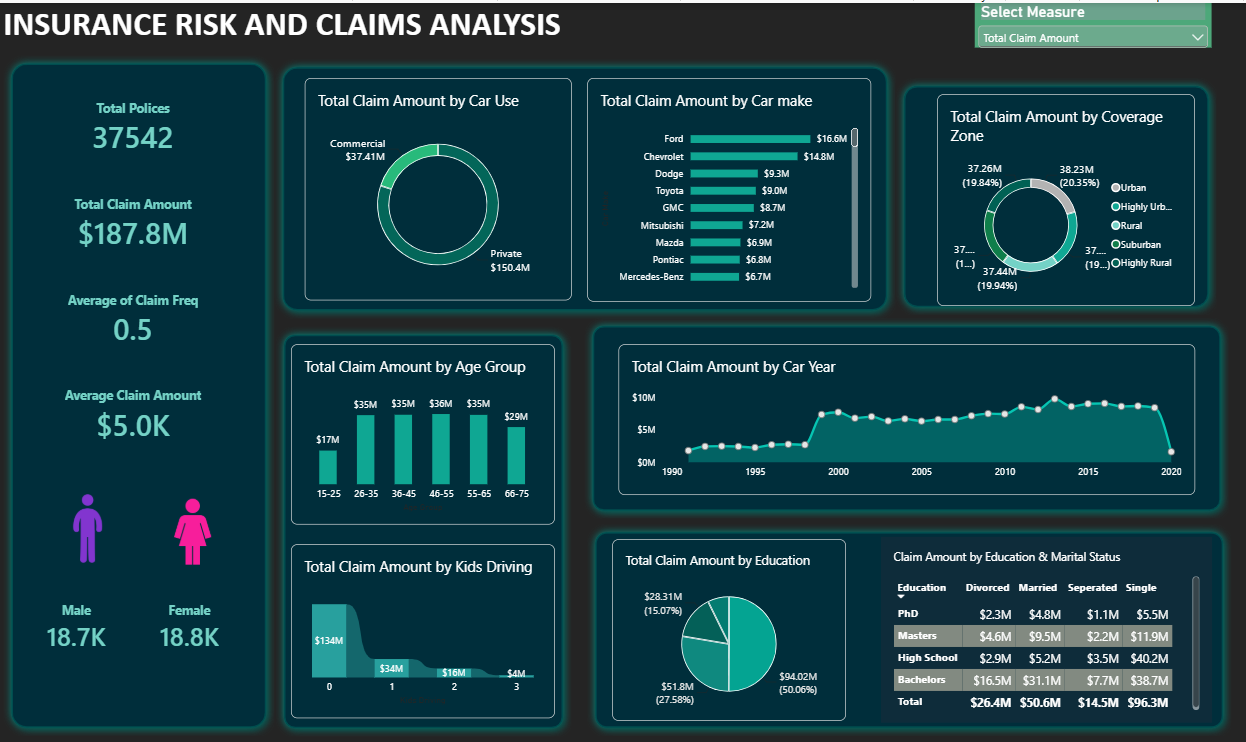

Layout of this report page (visuals, bound fields, positions):
{"tool":"powerbi","page":{"name":"Page 1","canvas":[1600,950],"ordinal":0},"visuals":[{"type":"textbox","box":[10.3,0,1590.1,84],"z":0},{"type":"shape","box":[10.3,66.9,344.8,866.2],"z":1000},{"type":"cardVisual","fields":{"Data":["insurance_data_car.Total Polices","insurance_data_car.Total Claim Amount","Avg(insurance_data_car.Claim Freq)","insurance_data_car.Average Claim Amount"]},"box":[34.3,99.5,279.6,488.9],"z":2000},{"type":"cardVisual","fields":{"Data":["insurance_data_car.Male Count","insurance_data_car.Female Count"]},"box":[30.9,739.3,288.2,114.9],"z":3000},{"type":"image","box":[209.3,610.6,84,123.5],"z":4000},{"type":"image","box":[73.2,627.2,87.5,87.5],"z":5000},{"type":"slicer","fields":{"Values":["Select Measure.Select Measure"]},"box":[1247,0,301.9,56.6],"z":6000},{"type":"shape","box":[355.1,72,790,330],"z":7000},{"type":"donutChart","fields":{"Category":["insurance_data_car.Car Use"],"Y":["insurance_data_car.Total Claim Amount"]},"box":[392.8,96.1,339.6,283],"z":8000},{"type":"clusteredBarChart","title":"Total Claim Amount by Car make","fields":{"Category":["insurance_data_car.Car Make"],"Y":["insurance_data_car.Total Claim Amount"]},"box":[753,96.1,361.9,284.7],"z":9000},{"type":"shape","box":[1145.8,96.1,408.2,301.9],"z":10000},{"type":"donutChart","title":"Total  Claim Amount by Coverage Zone","fields":{"Category":["insurance_data_car.Coverage Zone"],"Y":["Sum(insurance_data_car.Claim Amount)"]},"box":[1199,116.6,327.6,269.3],"z":11000},{"type":"shape","box":[356.8,411.7,375.6,521.4],"z":12000},{"type":"clusteredColumnChart","fields":{"Category":["insurance_data_car.Age Group"],"Y":["insurance_data_car.Total Claim Amount"]},"box":[375.6,434,336.2,229.8],"z":13000},{"type":"ribbonChart","fields":{"Category":["insurance_data_car.Kids Driving"],"Y":["insurance_data_car.Total Claim Amount"]},"box":[375.6,689.5,336.2,221.3],"z":14000},{"type":"shape","box":[749.6,401.4,819.9,255.6],"z":15000},{"type":"areaChart","fields":{"Category":["insurance_data_car.Car Year"],"Y":["insurance_data_car.Total Claim Amount"]},"box":[792.5,434,734.1,192.1],"z":16000},{"type":"shape","box":[753,663.8,819.9,269.3],"z":17000},{"type":"pieChart","fields":{"Category":["insurance_data_car.Education"],"Y":["insurance_data_car.Total Claim Amount"]},"box":[784.8,682.9,297.7,230.8],"z":18000},{"type":"pivotTable","title":"Claim Amount by Education & Marital Status","fields":{"Columns":["insurance_data_car.Marital Status"],"Rows":["insurance_data_car.Education"],"Values":["insurance_data_car.Total Claim Amount"]},"box":[1126.9,679.2,422,236.7],"z":19000}]}

Visuals, with their boxes in screenshot pixels (x1, y1, x2, y2), scaled from the page's 1600x950 canvas onto the 1246x742 screenshot:
textbox: bbox(8, 0, 1245, 66)
shape: bbox(8, 52, 277, 729)
cardVisual - insurance_data_car.Total Polices x insurance_data_car.Total Claim Amount: bbox(27, 78, 244, 460)
cardVisual - insurance_data_car.Male Count x insurance_data_car.Female Count: bbox(24, 577, 248, 667)
image: bbox(163, 477, 228, 573)
image: bbox(57, 490, 125, 558)
slicer - Select Measure.Select Measure: bbox(971, 0, 1206, 44)
shape: bbox(277, 56, 892, 314)
donutChart - insurance_data_car.Car Use x insurance_data_car.Total Claim Amount: bbox(306, 75, 570, 296)
"Total Claim Amount by Car make" clusteredBarChart: bbox(586, 75, 868, 297)
shape: bbox(892, 75, 1210, 311)
"Total  Claim Amount by Coverage Zone" donutChart: bbox(934, 91, 1189, 301)
shape: bbox(278, 322, 570, 729)
clusteredColumnChart - insurance_data_car.Age Group x insurance_data_car.Total Claim Amount: bbox(292, 339, 554, 518)
ribbonChart - insurance_data_car.Kids Driving x insurance_data_car.Total Claim Amount: bbox(292, 539, 554, 711)
shape: bbox(584, 314, 1222, 513)
areaChart - insurance_data_car.Car Year x insurance_data_car.Total Claim Amount: bbox(617, 339, 1189, 489)
shape: bbox(586, 518, 1225, 729)
pieChart - insurance_data_car.Education x insurance_data_car.Total Claim Amount: bbox(611, 533, 843, 714)
"Claim Amount by Education & Marital Status" pivotTable: bbox(878, 530, 1206, 715)
